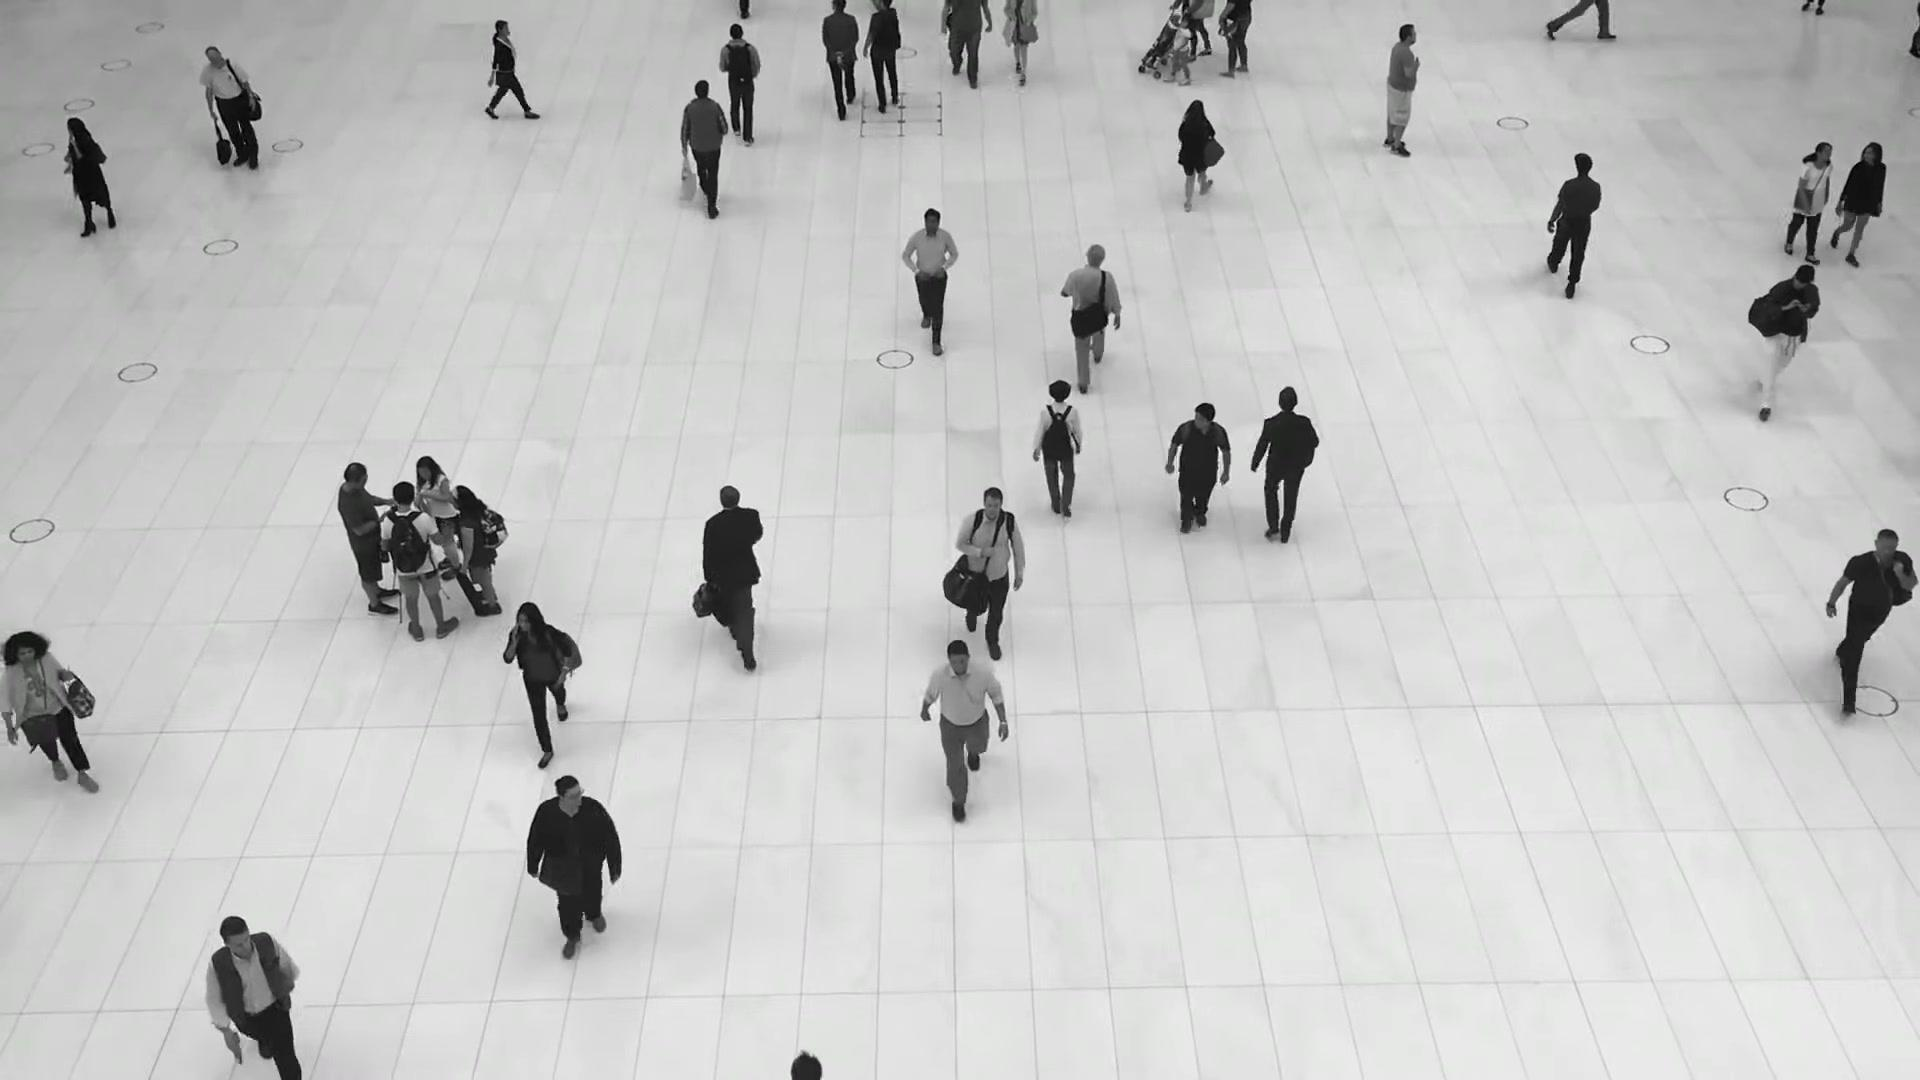person: (521, 777, 619, 966), (204, 910, 311, 1080), (1825, 524, 1916, 703), (0, 631, 100, 794), (921, 636, 1007, 812), (694, 482, 768, 668), (379, 481, 459, 641), (957, 489, 1025, 671), (502, 597, 580, 752), (1747, 263, 1821, 417), (1251, 391, 1318, 561), (336, 464, 400, 615), (1165, 405, 1229, 545), (900, 207, 960, 353), (1062, 243, 1122, 387), (1544, 150, 1601, 295), (1032, 383, 1083, 533), (200, 47, 258, 175), (449, 484, 502, 617), (678, 76, 727, 213), (63, 115, 118, 236), (1831, 141, 1885, 265), (1783, 141, 1834, 263), (717, 24, 763, 148), (1175, 97, 1226, 209), (416, 455, 459, 580), (487, 18, 539, 120), (1382, 24, 1421, 157), (821, 0, 860, 119), (863, 0, 901, 116), (1168, 13, 1193, 87)
